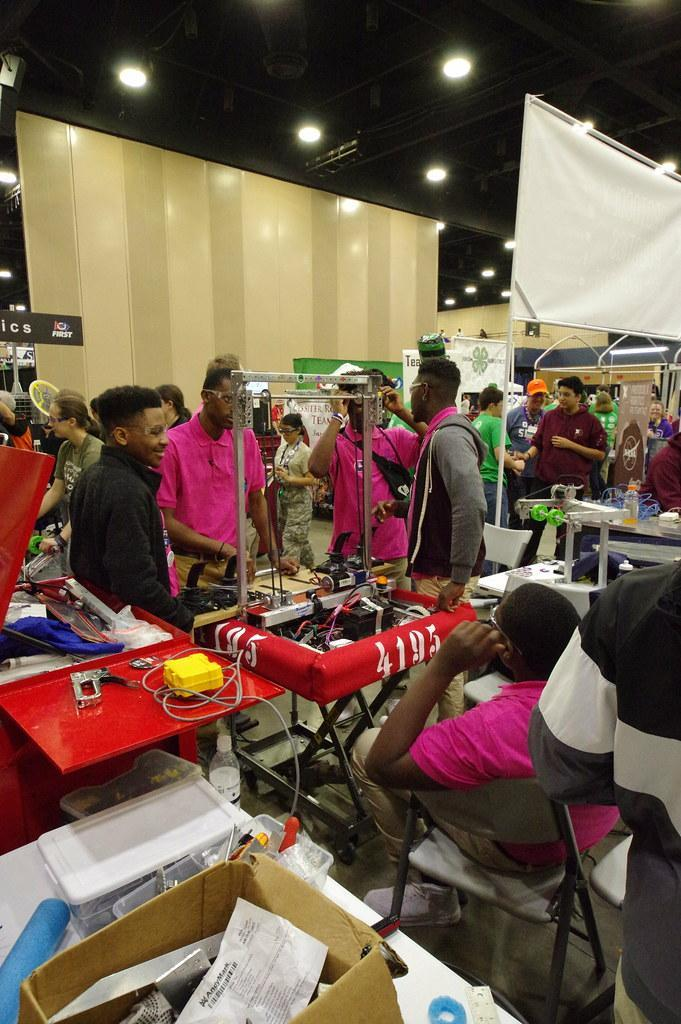robot: (184, 356, 492, 710), (468, 466, 646, 652)
